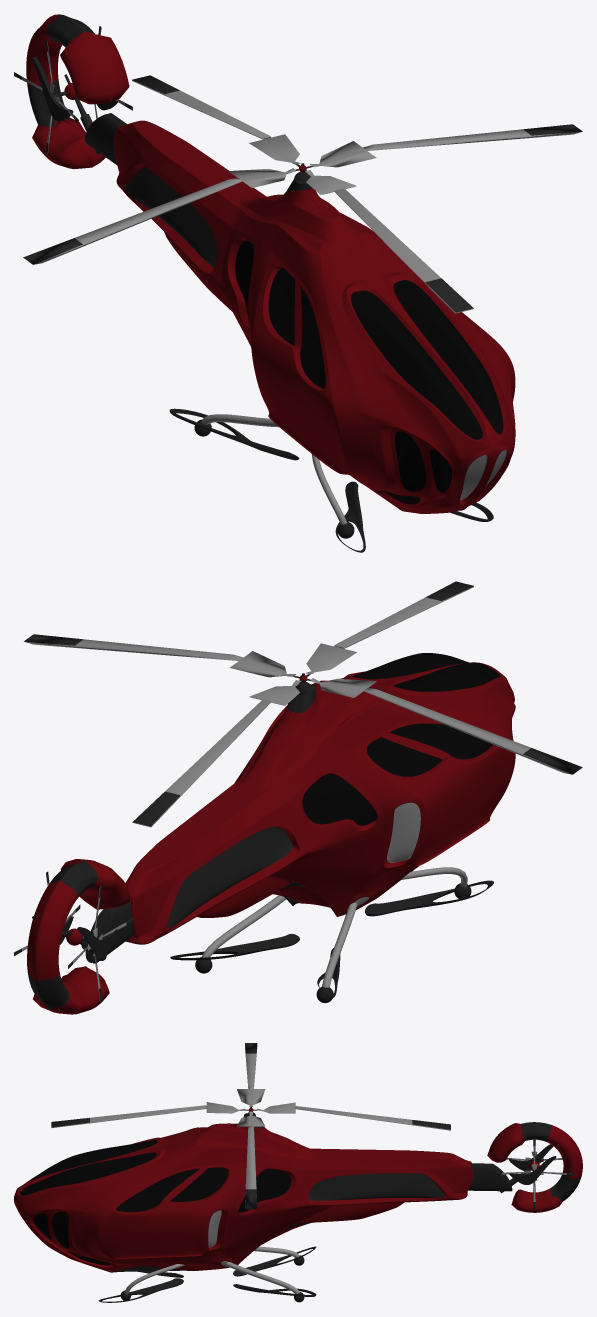
The model's file is Air Swift.fbx.
The picture shows the model from 3 angles, top to bottom: view 1: azimuth 30°, elevation 25°; view 2: azimuth 150°, elevation 25°; view 3: azimuth 270°, elevation 25°; orthographic projection. The views are drawn at different scales.
Visible parts, largest first — view 1: Cube, rear rotor, Torus, Plane.001; view 2: Cube, rear rotor, Torus, BezierCurve.001, Plane.001; view 3: Cube, rear rotor, Torus, BezierCurve.001, Plane, rear rotor.002.
Part boxes in pixels (bbox=[...]): Cube: bbox=[85, 113, 515, 552]; rear rotor: bbox=[23, 75, 582, 313]; Torus: bbox=[26, 14, 129, 168]; Plane.001: bbox=[31, 57, 73, 121]; Cube: bbox=[85, 653, 515, 997]; rear rotor: bbox=[24, 581, 582, 827]; Torus: bbox=[27, 859, 129, 1014]; BezierCurve.001: bbox=[202, 895, 357, 987]; Plane.001: bbox=[77, 927, 118, 957]; Cube: bbox=[14, 1113, 512, 1302]; rear rotor: bbox=[51, 1043, 450, 1209]; Torus: bbox=[487, 1122, 582, 1212]; BezierCurve.001: bbox=[225, 1246, 299, 1293]; Plane: bbox=[509, 1156, 556, 1184]; rear rotor.002: bbox=[494, 1138, 574, 1210].
Size of the model in its own units: 701 by 349 by 1018.
